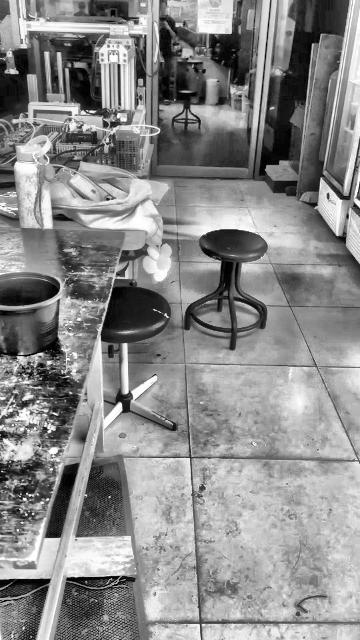pot: (0, 271, 63, 355)
